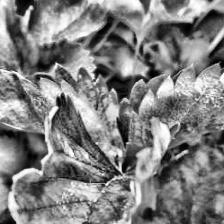Powdery Mildew Leaf: (6, 92, 169, 224), (0, 60, 124, 168), (116, 62, 224, 170), (137, 0, 206, 42)
